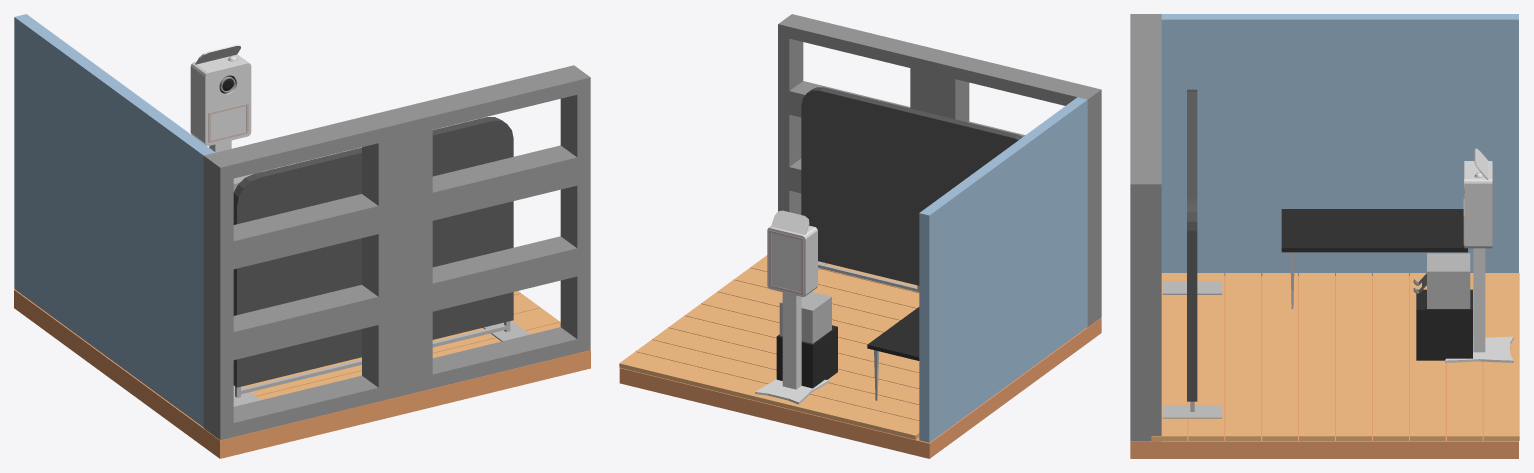
File: booth05.glb
The picture shows the model from 3 angles, left to right: view 1: azimuth 30°, elevation 25°; view 2: azimuth 150°, elevation 25°; view 3: azimuth 270°, elevation 25°; orthographic projection. The views are drawn at different scales.
Visible parts, largest first — view 1: Cube.004, Cube.005, Cloth, Cube.003, Booth, Cube.002, Stand; view 2: Cube.005, Cloth, Cube.002, Cube.004, Cube.003, Booth, Base.001, Stand.001, Cube.006, Printer, Base, Reflector (+1 smaller); view 3: Cube.005, Cube.002, Cube.004, Cube.003, Cube.006, Cloth, Base.001, Printer, Booth, Stand, Stand.001, Base.
Part boxes in pixels (box(x1,y1,x2,y2)): Cube.004: box(203, 65, 590, 440); Cube.005: box(14, 14, 215, 427); Cloth: box(233, 117, 513, 387); Cube.003: box(14, 289, 590, 458); Booth: box(190, 54, 251, 145); Cube.002: box(243, 291, 560, 399); Stand: box(233, 321, 529, 406); Cube.005: box(919, 97, 1087, 442); Cloth: box(801, 87, 1022, 285); Cube.002: box(619, 255, 919, 439); Cube.004: box(778, 14, 1101, 327); Cube.003: box(619, 317, 1101, 458); Booth: box(767, 225, 817, 296); Base.001: box(776, 325, 837, 388); Stand.001: box(782, 292, 801, 389); Cube.006: box(867, 307, 919, 360); Printer: box(779, 292, 831, 343); Base: box(755, 378, 828, 404); Reflector: box(771, 210, 809, 234); Cube.005: box(1161, 14, 1518, 275); Cube.002: box(1151, 273, 1519, 440); Cube.004: box(1130, 14, 1161, 441); Cube.003: box(1130, 276, 1518, 458); Cube.006: box(1281, 209, 1467, 252); Cloth: box(1187, 89, 1197, 401); Base.001: box(1416, 289, 1472, 360); Printer: box(1427, 253, 1470, 308); Booth: box(1463, 161, 1492, 248); Stand: box(1162, 281, 1222, 418); Stand.001: box(1473, 248, 1485, 352); Base: box(1445, 336, 1513, 362).
Size of the model in its own units: 16.04 by 12.03 by 15.46.
